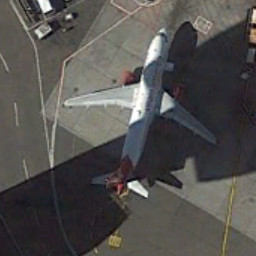Airplane: (57, 23, 226, 214)
